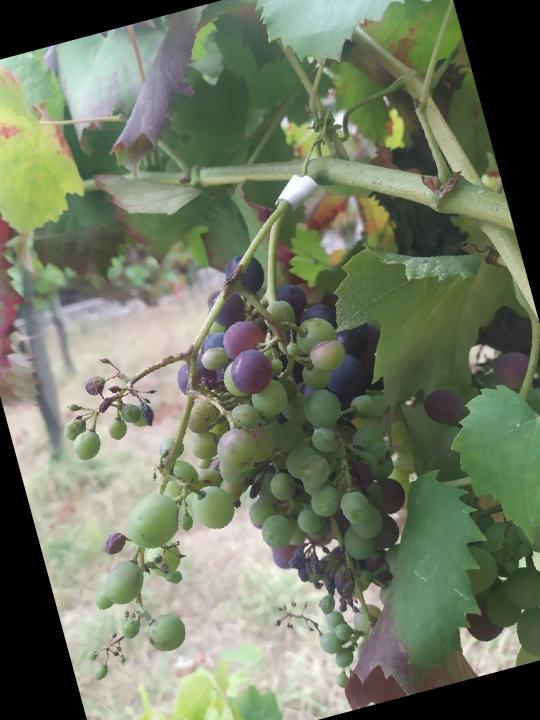grape: (0, 226, 450, 720)
